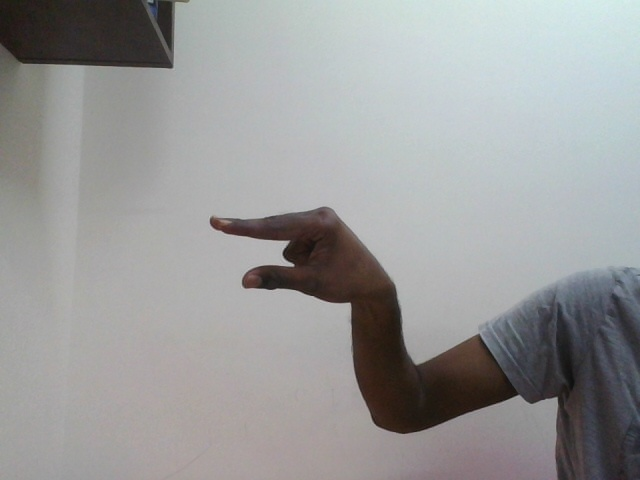No: (210, 205, 353, 302)
